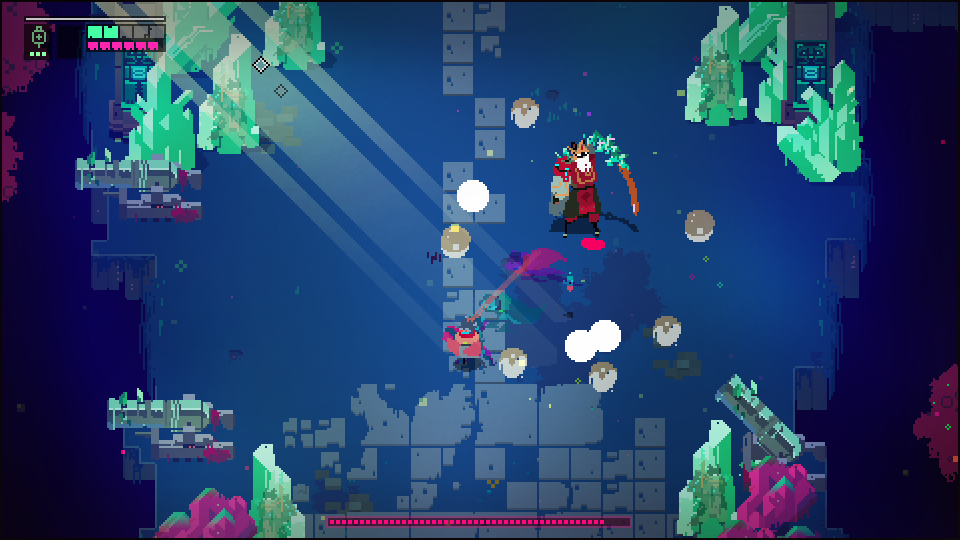hanged_man: (549, 128, 639, 235)
player: (440, 319, 484, 370)
